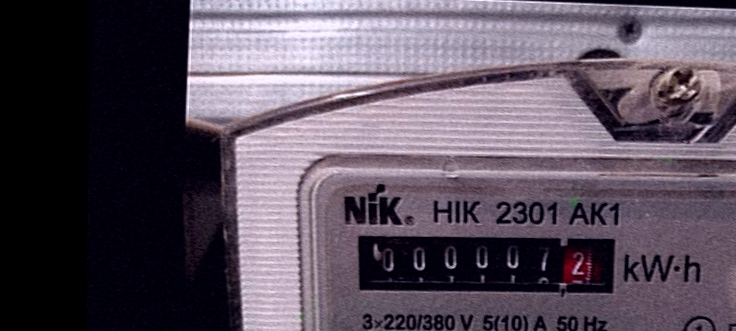0: (443, 243, 461, 272), (380, 245, 398, 273), (475, 243, 493, 271), (507, 243, 523, 272), (412, 245, 429, 272)
2: (571, 251, 588, 278)
7: (537, 244, 554, 274)
screen: (346, 223, 629, 306)
